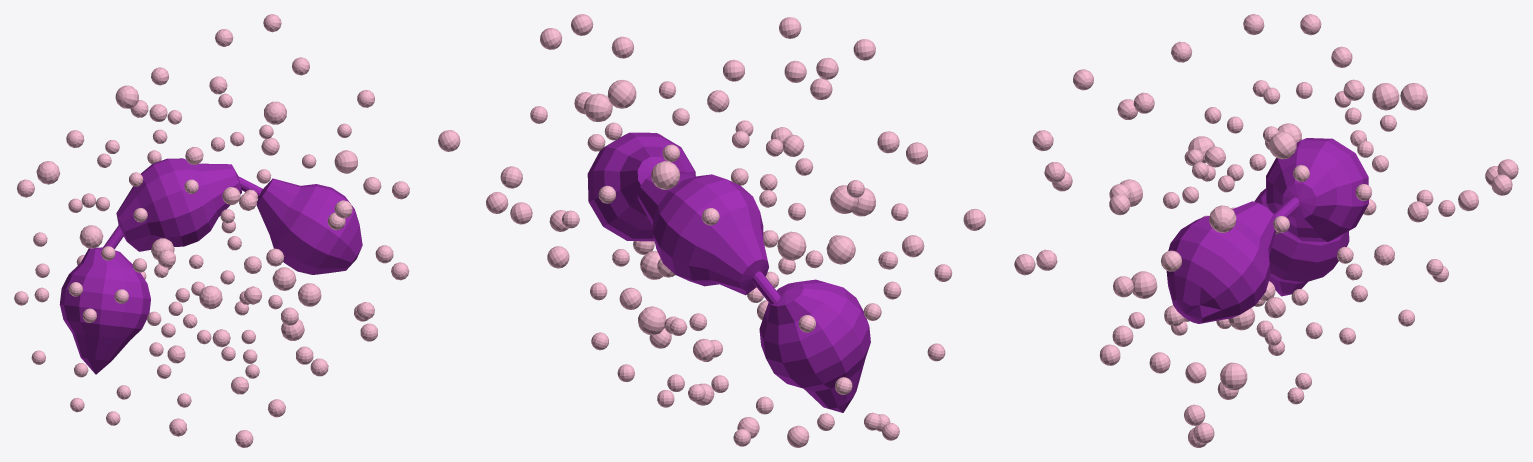
The model's file is model-triangulated.obj.
3 renders of one model, left to right at view 1: azimuth 30°, elevation 25°; view 2: azimuth 150°, elevation 25°; view 3: azimuth 270°, elevation 25°, orthographic. The views are drawn at different scales.
Parts seen in each view (by area): view 1: group1966083013, group1341219599, group545675811, group183854155, group1483866507, group1723533494, group1201468753, group1727841401, group1275232115, group1891144011, group427529920; view 2: group1966083013, group1341219599, group545675811, group1891144011, group427529920, group1723533494, group1727841401, group2125359803, group1201468753, group2052883263; view 3: group545675811, group1966083013, group1341219599, group427529920, group2125359803, group1727841401, group1891144011, group1201468753, group183854155.
Part boxes in pixels (box(x1,y1,x2,y2)): group1966083013: box(116, 158, 241, 251); group1341219599: box(59, 247, 150, 374); group545675811: box(256, 178, 362, 274); group183854155: box(298, 283, 321, 306); group1483866507: box(272, 267, 296, 290); group1723533494: box(79, 225, 103, 248); group1201468753: box(334, 150, 357, 173); group1727841401: box(115, 85, 138, 108); group1275232115: box(199, 285, 222, 309); group1891144011: box(36, 161, 60, 184); group427529920: box(264, 101, 286, 124); group1966083013: box(637, 174, 768, 295); group1341219599: box(759, 279, 870, 412); group545675811: box(587, 132, 695, 241); group1891144011: box(777, 231, 806, 260); group427529920: box(607, 79, 636, 108); group1723533494: box(826, 235, 855, 264); group1727841401: box(651, 161, 679, 189); group2125359803: box(638, 306, 666, 335); group1201468753: box(584, 93, 612, 121); group2052883263: box(830, 185, 859, 213); group545675811: box(1166, 201, 1276, 323); group1966083013: box(1266, 138, 1368, 241); group1341219599: box(1254, 188, 1349, 296); group427529920: box(1269, 132, 1296, 159); group2125359803: box(1220, 362, 1247, 390); group1727841401: box(1400, 83, 1427, 110); group1891144011: box(1372, 83, 1399, 110); group1201468753: box(1209, 205, 1236, 232); group183854155: box(1131, 271, 1157, 298).
Size of the model in its own units: 2.1 by 2.18 by 2.36.
